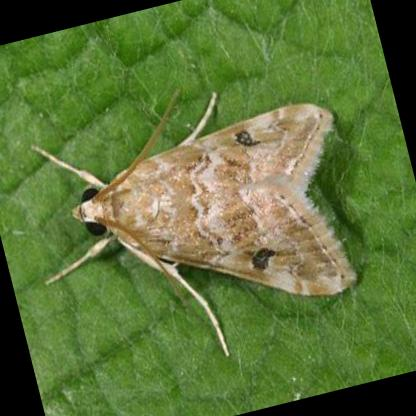Hellula undalis: (28, 85, 361, 357)
